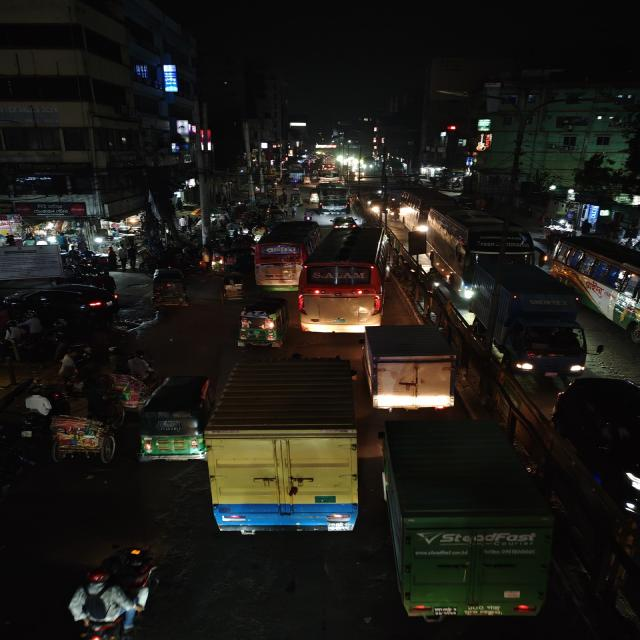bus: (424, 204, 536, 302), (298, 224, 393, 334), (552, 234, 640, 340), (252, 219, 320, 292), (401, 189, 456, 235), (315, 183, 350, 215)
car: (0, 277, 123, 312)
cng: (138, 373, 209, 464), (234, 297, 288, 349), (149, 268, 192, 310)
motorcycle: (66, 542, 166, 640), (303, 210, 315, 222)
pedestrian: (55, 350, 86, 384)
rickshaw: (28, 393, 122, 465), (148, 268, 192, 310), (108, 372, 151, 411), (216, 270, 247, 303)
truck: (376, 419, 554, 627), (204, 355, 364, 539), (472, 260, 584, 376), (362, 323, 459, 413)
